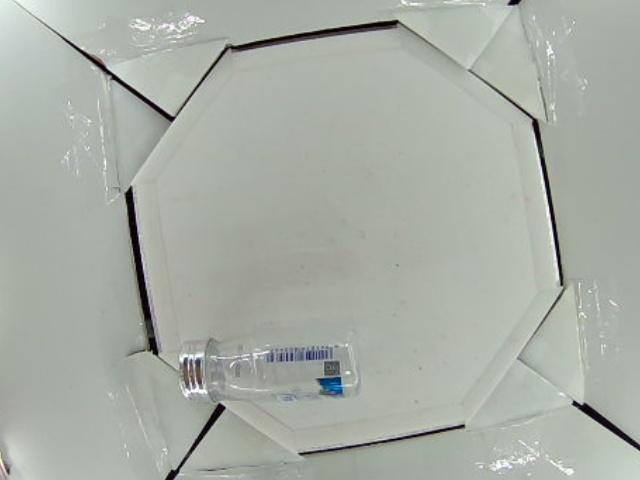Bottle: (177, 328, 361, 409)
